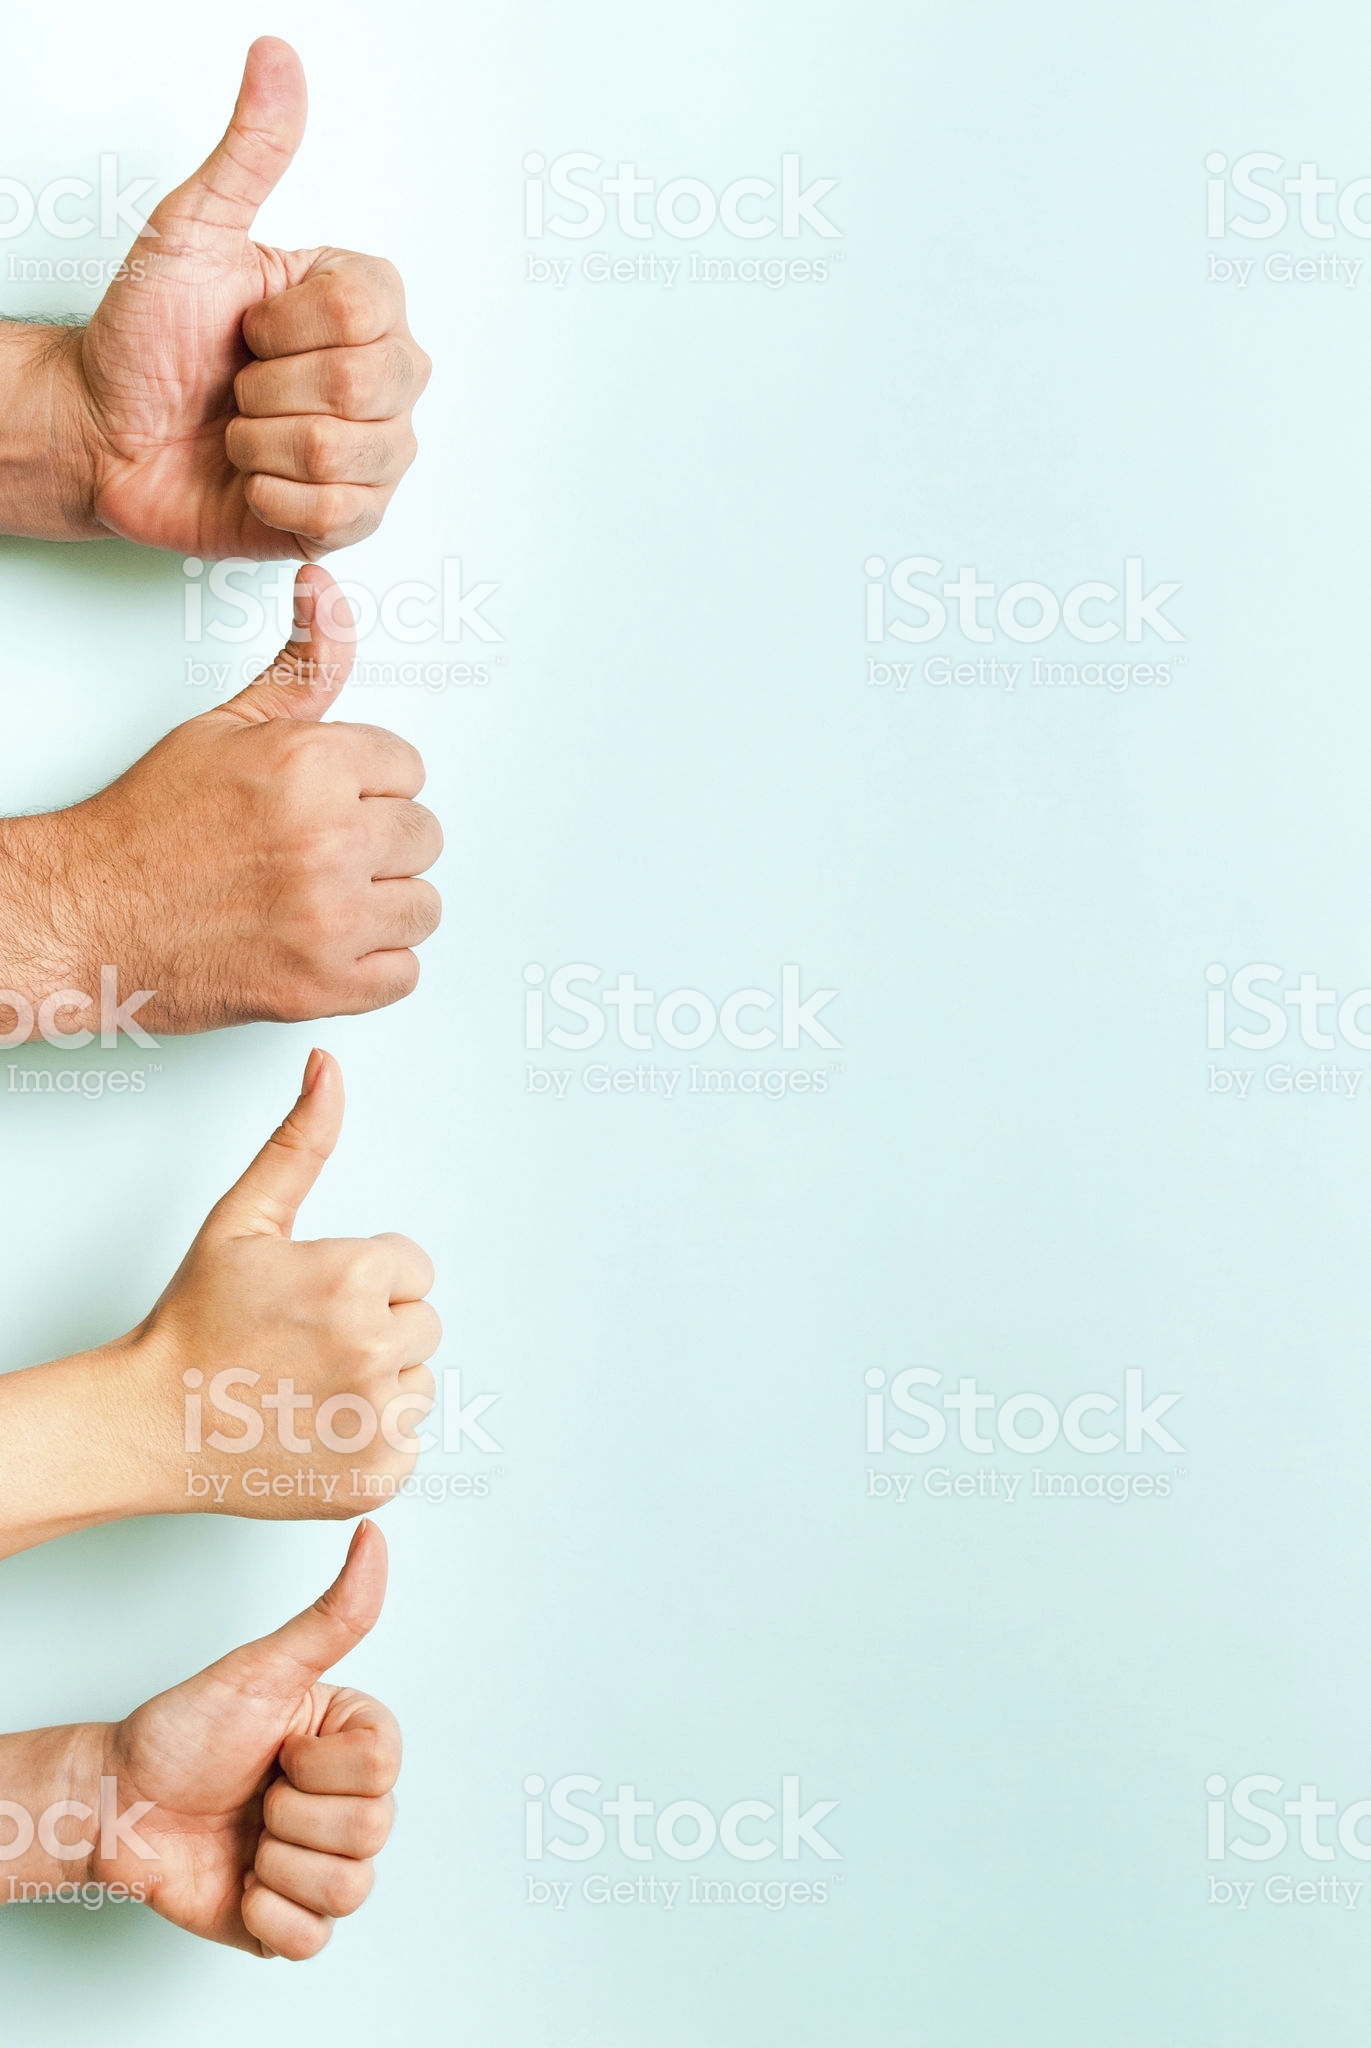thumbsup: (151, 32, 436, 560), (194, 1517, 399, 1965)
